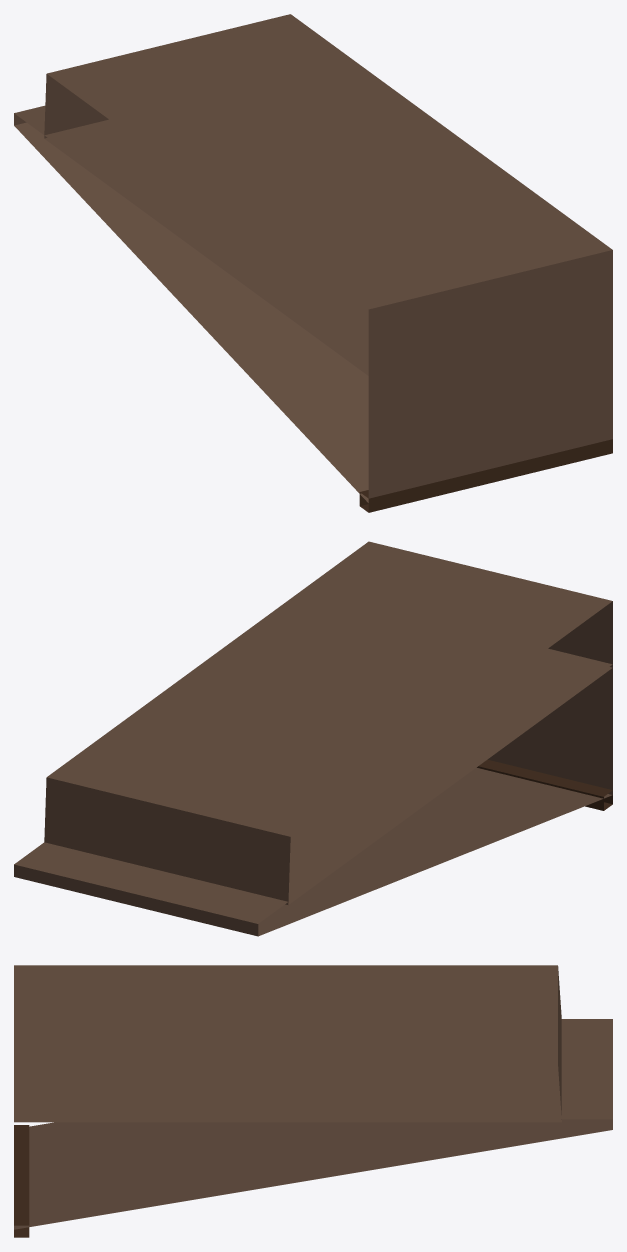
3 views of the same model, one above another, from view 1: azimuth 30°, elevation 25°; view 2: azimuth 150°, elevation 25°; view 3: azimuth 270°, elevation 25° (orthographic). The views are drawn at different scales.
Visible parts, largest first — view 1: Rooftop_type3_023; view 2: Rooftop_type3_023; view 3: Rooftop_type3_023.
Part boxes in pixels (x1,y1,x2,y2): Rooftop_type3_023: [14, 14, 612, 512]; Rooftop_type3_023: [14, 541, 612, 936]; Rooftop_type3_023: [14, 965, 612, 1237].
Bounding box in the file's own units: 280 × 223 × 704.
